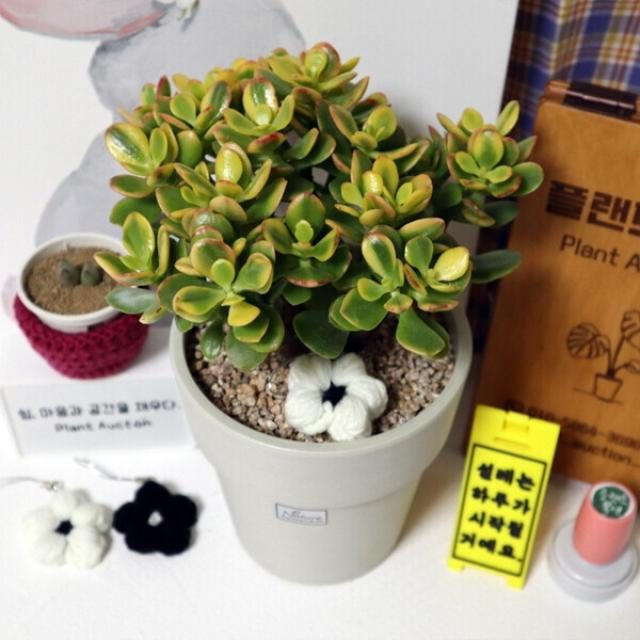Crassula: (158, 209, 300, 369), (329, 149, 480, 253), (328, 225, 445, 356), (421, 101, 542, 227), (175, 142, 288, 223), (262, 192, 351, 287), (94, 213, 169, 324), (121, 68, 238, 139), (255, 42, 369, 108), (214, 76, 295, 155), (105, 122, 179, 198), (275, 128, 335, 169)
